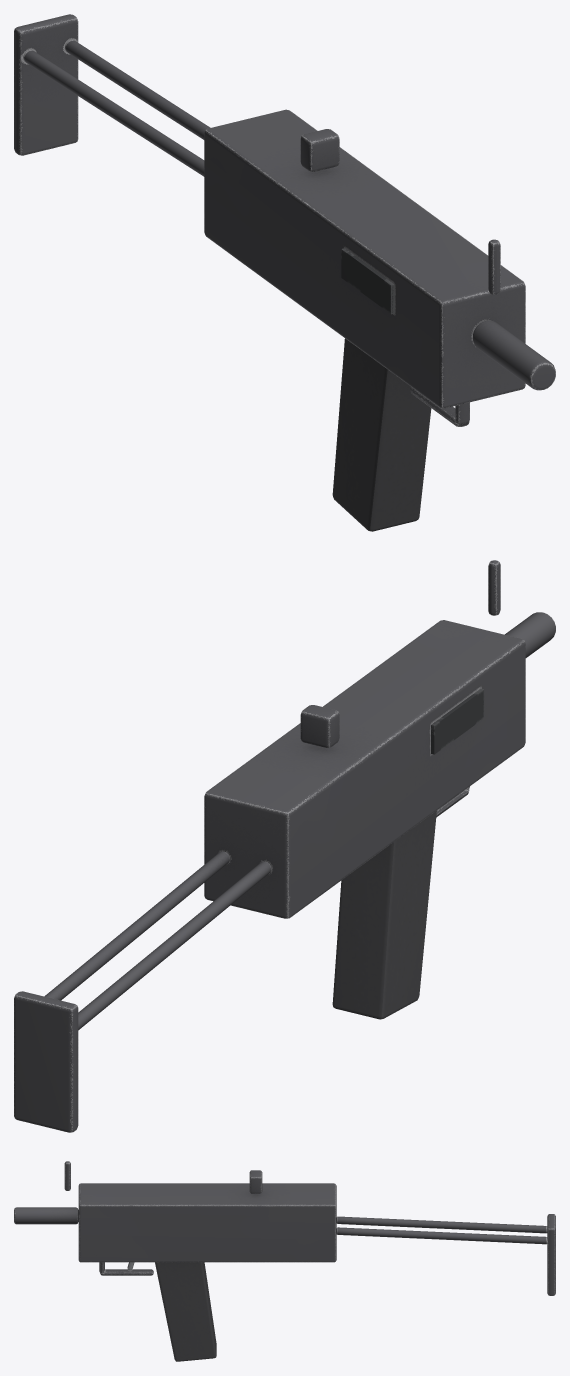
File: mac10.fbx
3 renders of one model, top to bottom at view 1: azimuth 30°, elevation 25°; view 2: azimuth 150°, elevation 25°; view 3: azimuth 270°, elevation 25°, orthographic. The views are drawn at different scales.
Parts seen in each view (by area): view 1: mac10; view 2: mac10; view 3: mac10.
Boxes of the visible parts, left/top/right/bottom form: mac10: left=14, top=14, right=555, bottom=531; mac10: left=14, top=560, right=555, bottom=1132; mac10: left=14, top=1161, right=555, bottom=1361.
Bounding box in the file's own units: 0.052 × 0.1995 × 0.504.
